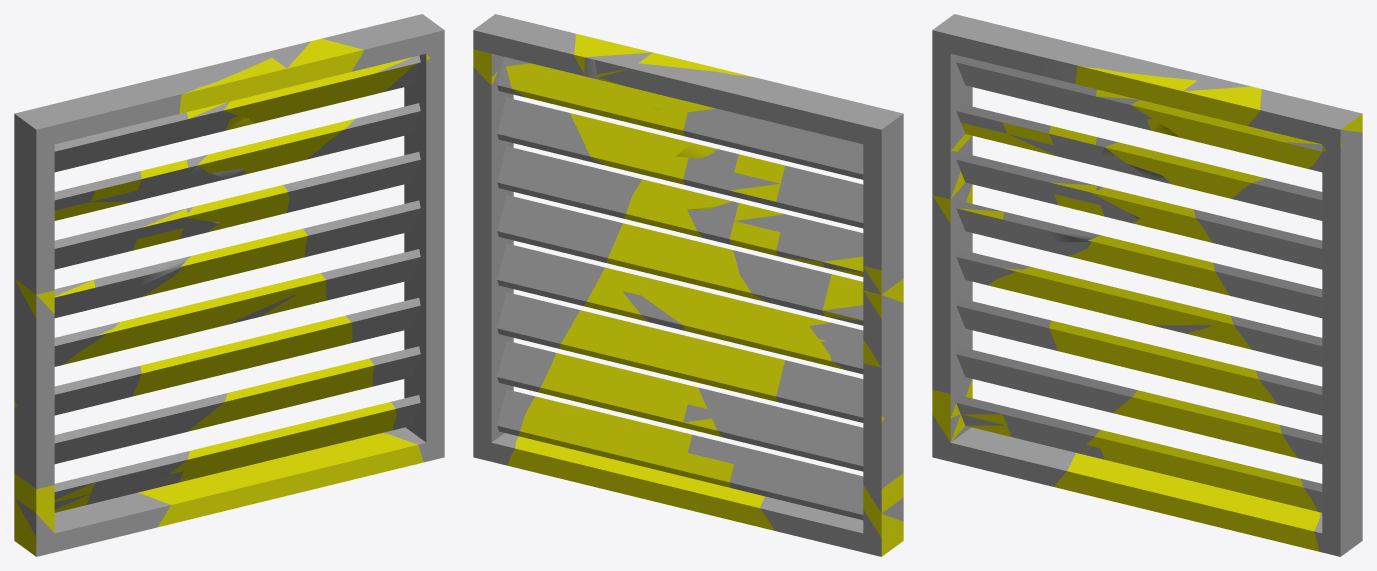
The model's file is ShatteredVent_Vent_Flat_Wall_2m.fbx.
3 renders of one model, left to right at view 1: azimuth 30°, elevation 25°; view 2: azimuth 150°, elevation 25°; view 3: azimuth 330°, elevation 25°, orthographic.
Parts seen in each view (by area): view 1: polySurface2, polySurface1, polySurface20, polySurface5, polySurface17, polySurface6, polySurface18, polySurface11, polySurface7, polySurface19, polySurface8, polySurface10 (+6 smaller); view 2: polySurface2, polySurface1, polySurface20, polySurface6, polySurface18, polySurface17, polySurface5, polySurface7, polySurface19, polySurface8, polySurface16, polySurface11 (+6 smaller); view 3: polySurface2, polySurface1, polySurface20, polySurface5, polySurface17, polySurface6, polySurface18, polySurface11, polySurface7, polySurface19, polySurface8, polySurface10 (+6 smaller).
Boxes of the visible parts, box(x1,y1,x2,y2) form: polySurface2: box(14, 43, 300, 407); polySurface1: box(283, 49, 444, 462); polySurface20: box(14, 335, 264, 556); polySurface5: box(138, 433, 423, 527); polySurface17: box(282, 14, 444, 116); polySurface6: box(153, 402, 396, 488); polySurface18: box(63, 276, 307, 364); polySurface11: box(179, 38, 363, 113); polySurface7: box(187, 358, 374, 431); polySurface19: box(143, 228, 307, 296); polySurface8: box(229, 316, 352, 372); polySurface10: box(223, 77, 330, 123); polySurface2: box(594, 59, 903, 423); polySurface1: box(473, 61, 642, 465); polySurface20: box(661, 330, 903, 556); polySurface6: box(518, 396, 757, 494); polySurface18: box(618, 270, 847, 370); polySurface17: box(473, 14, 627, 122); polySurface5: box(507, 436, 774, 530); polySurface7: box(538, 353, 722, 437); polySurface19: box(606, 223, 767, 302); polySurface8: box(559, 310, 681, 378); polySurface16: box(570, 113, 667, 180); polySurface11: box(574, 33, 755, 79); polySurface2: box(932, 14, 1240, 300); polySurface1: box(1193, 148, 1362, 556); polySurface20: box(932, 288, 1174, 486); polySurface5: box(1054, 453, 1320, 551); polySurface17: box(1208, 89, 1362, 168); polySurface6: box(1078, 429, 1317, 511); polySurface18: box(988, 266, 1217, 333); polySurface11: box(1075, 66, 1261, 125); polySurface7: box(1113, 390, 1297, 458); polySurface19: box(1068, 236, 1228, 295); polySurface8: box(1154, 350, 1276, 404); polySurface10: box(1131, 100, 1240, 144).
Size of the model in its own units: 0.08 by 0.08 by 0.0075.
